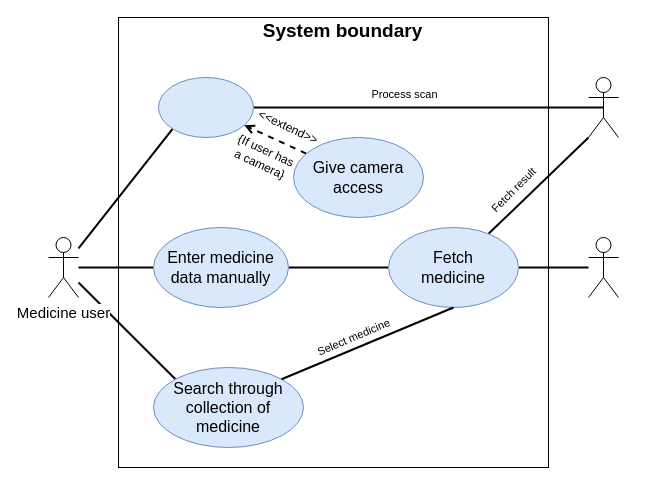
Some shapes in this 663 by 485 pixel diagram are drawn without their labels. Here are the shapes that lost their labels. From the top down, the box of each, then its label:
(158, 76, 254, 138): Scan medicine
(588, 76, 618, 138): OCR / AI
(588, 236, 618, 298): Medcine API
